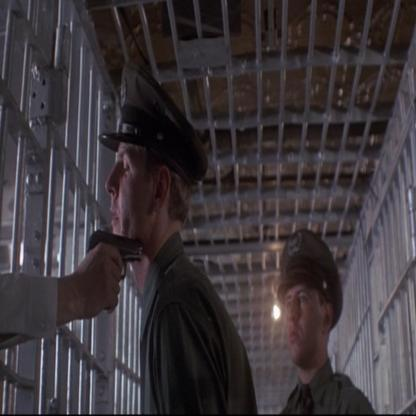gun: (84, 211, 146, 274)
